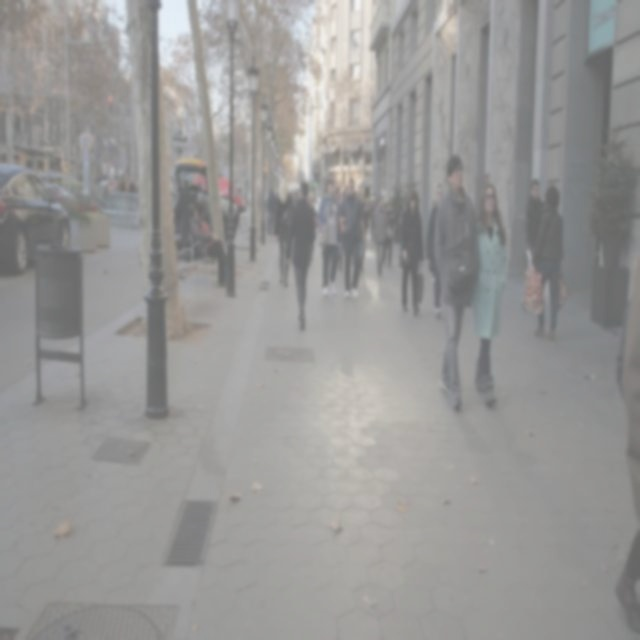pessoa: (432, 153, 481, 410), (615, 256, 639, 639), (470, 182, 508, 406), (522, 184, 566, 340), (286, 178, 316, 330), (337, 176, 367, 300), (398, 188, 426, 316), (192, 201, 228, 288), (316, 177, 341, 299), (194, 201, 228, 288), (425, 182, 445, 324), (272, 176, 294, 287), (524, 177, 547, 271), (372, 195, 388, 276), (356, 186, 370, 276), (382, 200, 395, 270), (306, 190, 318, 262), (324, 170, 348, 202), (336, 224, 345, 296), (101, 154, 115, 198), (266, 187, 276, 237), (272, 185, 280, 243), (287, 184, 299, 222), (368, 188, 376, 244), (232, 196, 242, 237), (117, 173, 126, 192), (126, 176, 136, 193), (98, 177, 99, 179)
